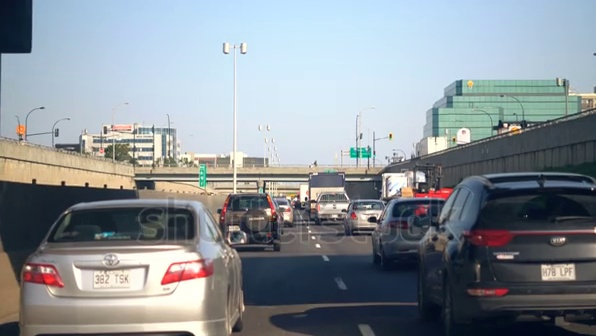licenseplate: (85, 269, 142, 291), (537, 261, 577, 282)
